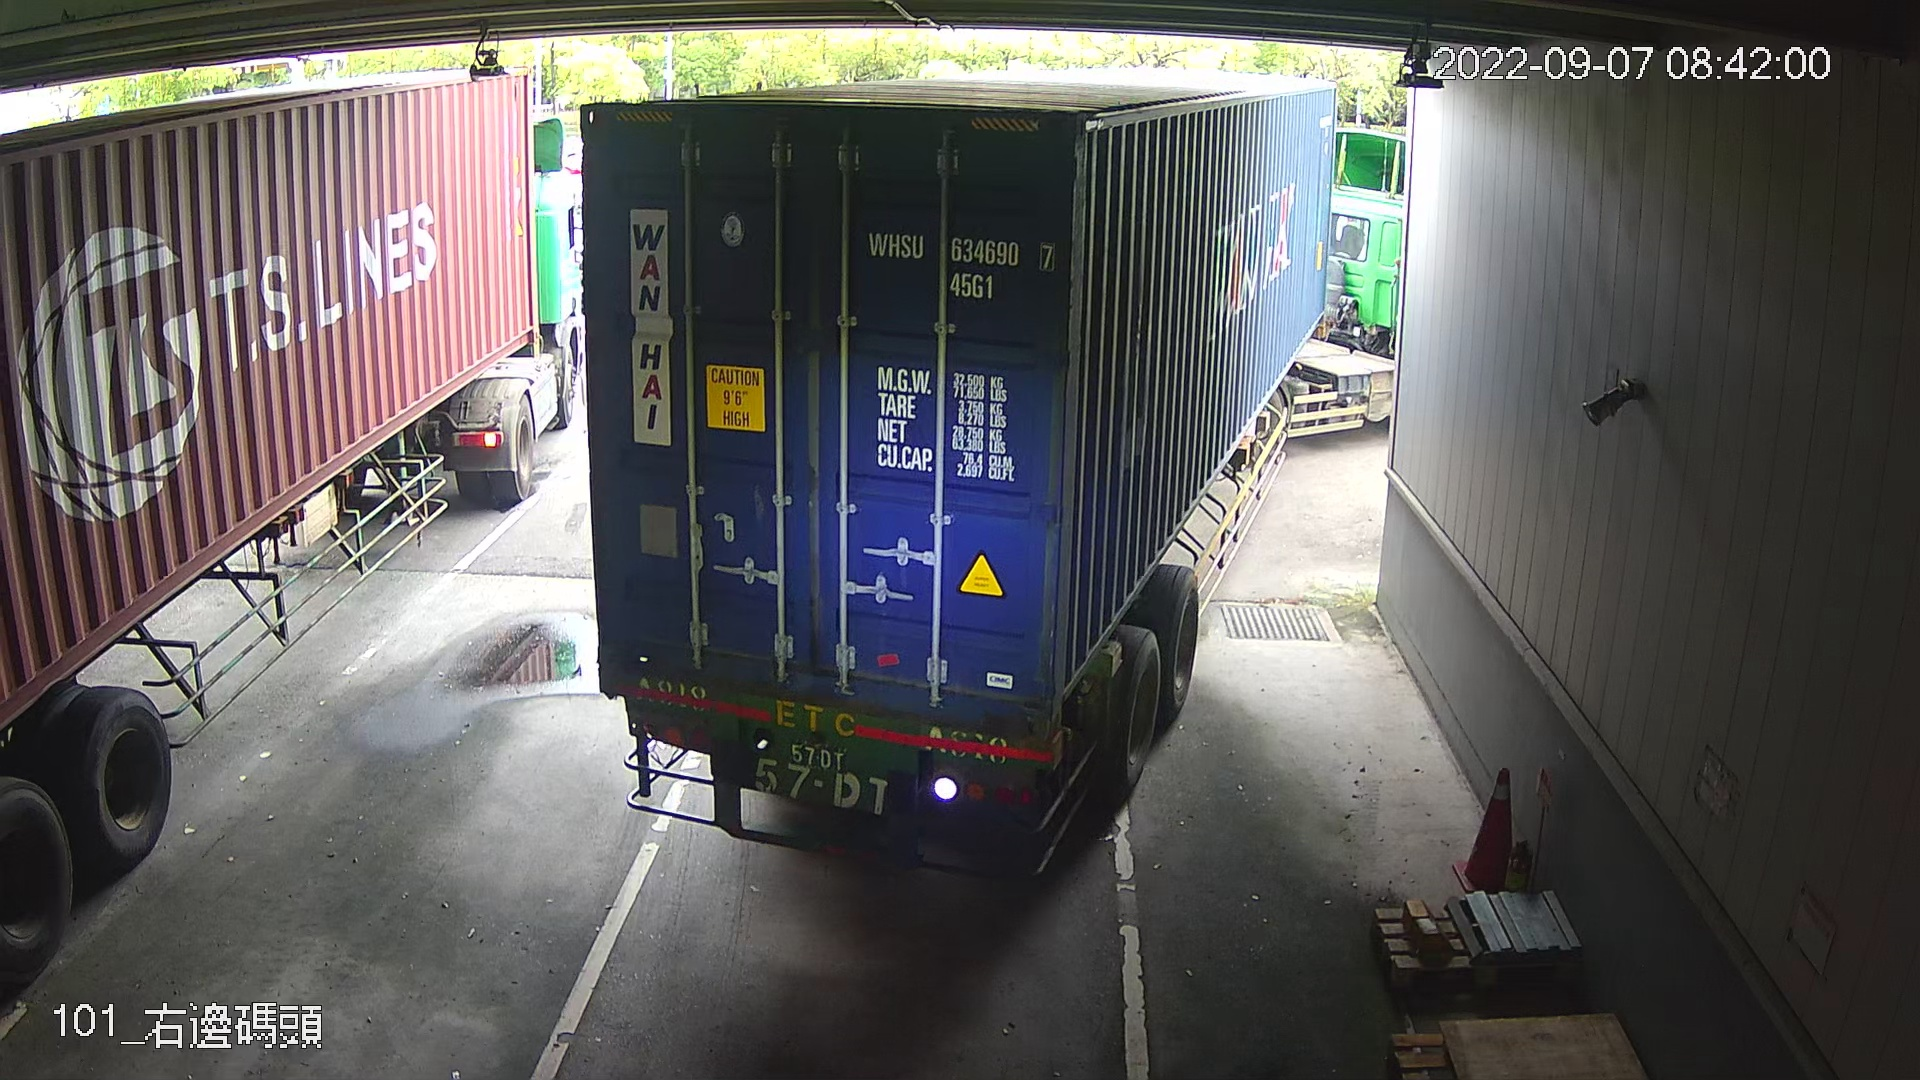container: (862, 216, 1063, 305)
